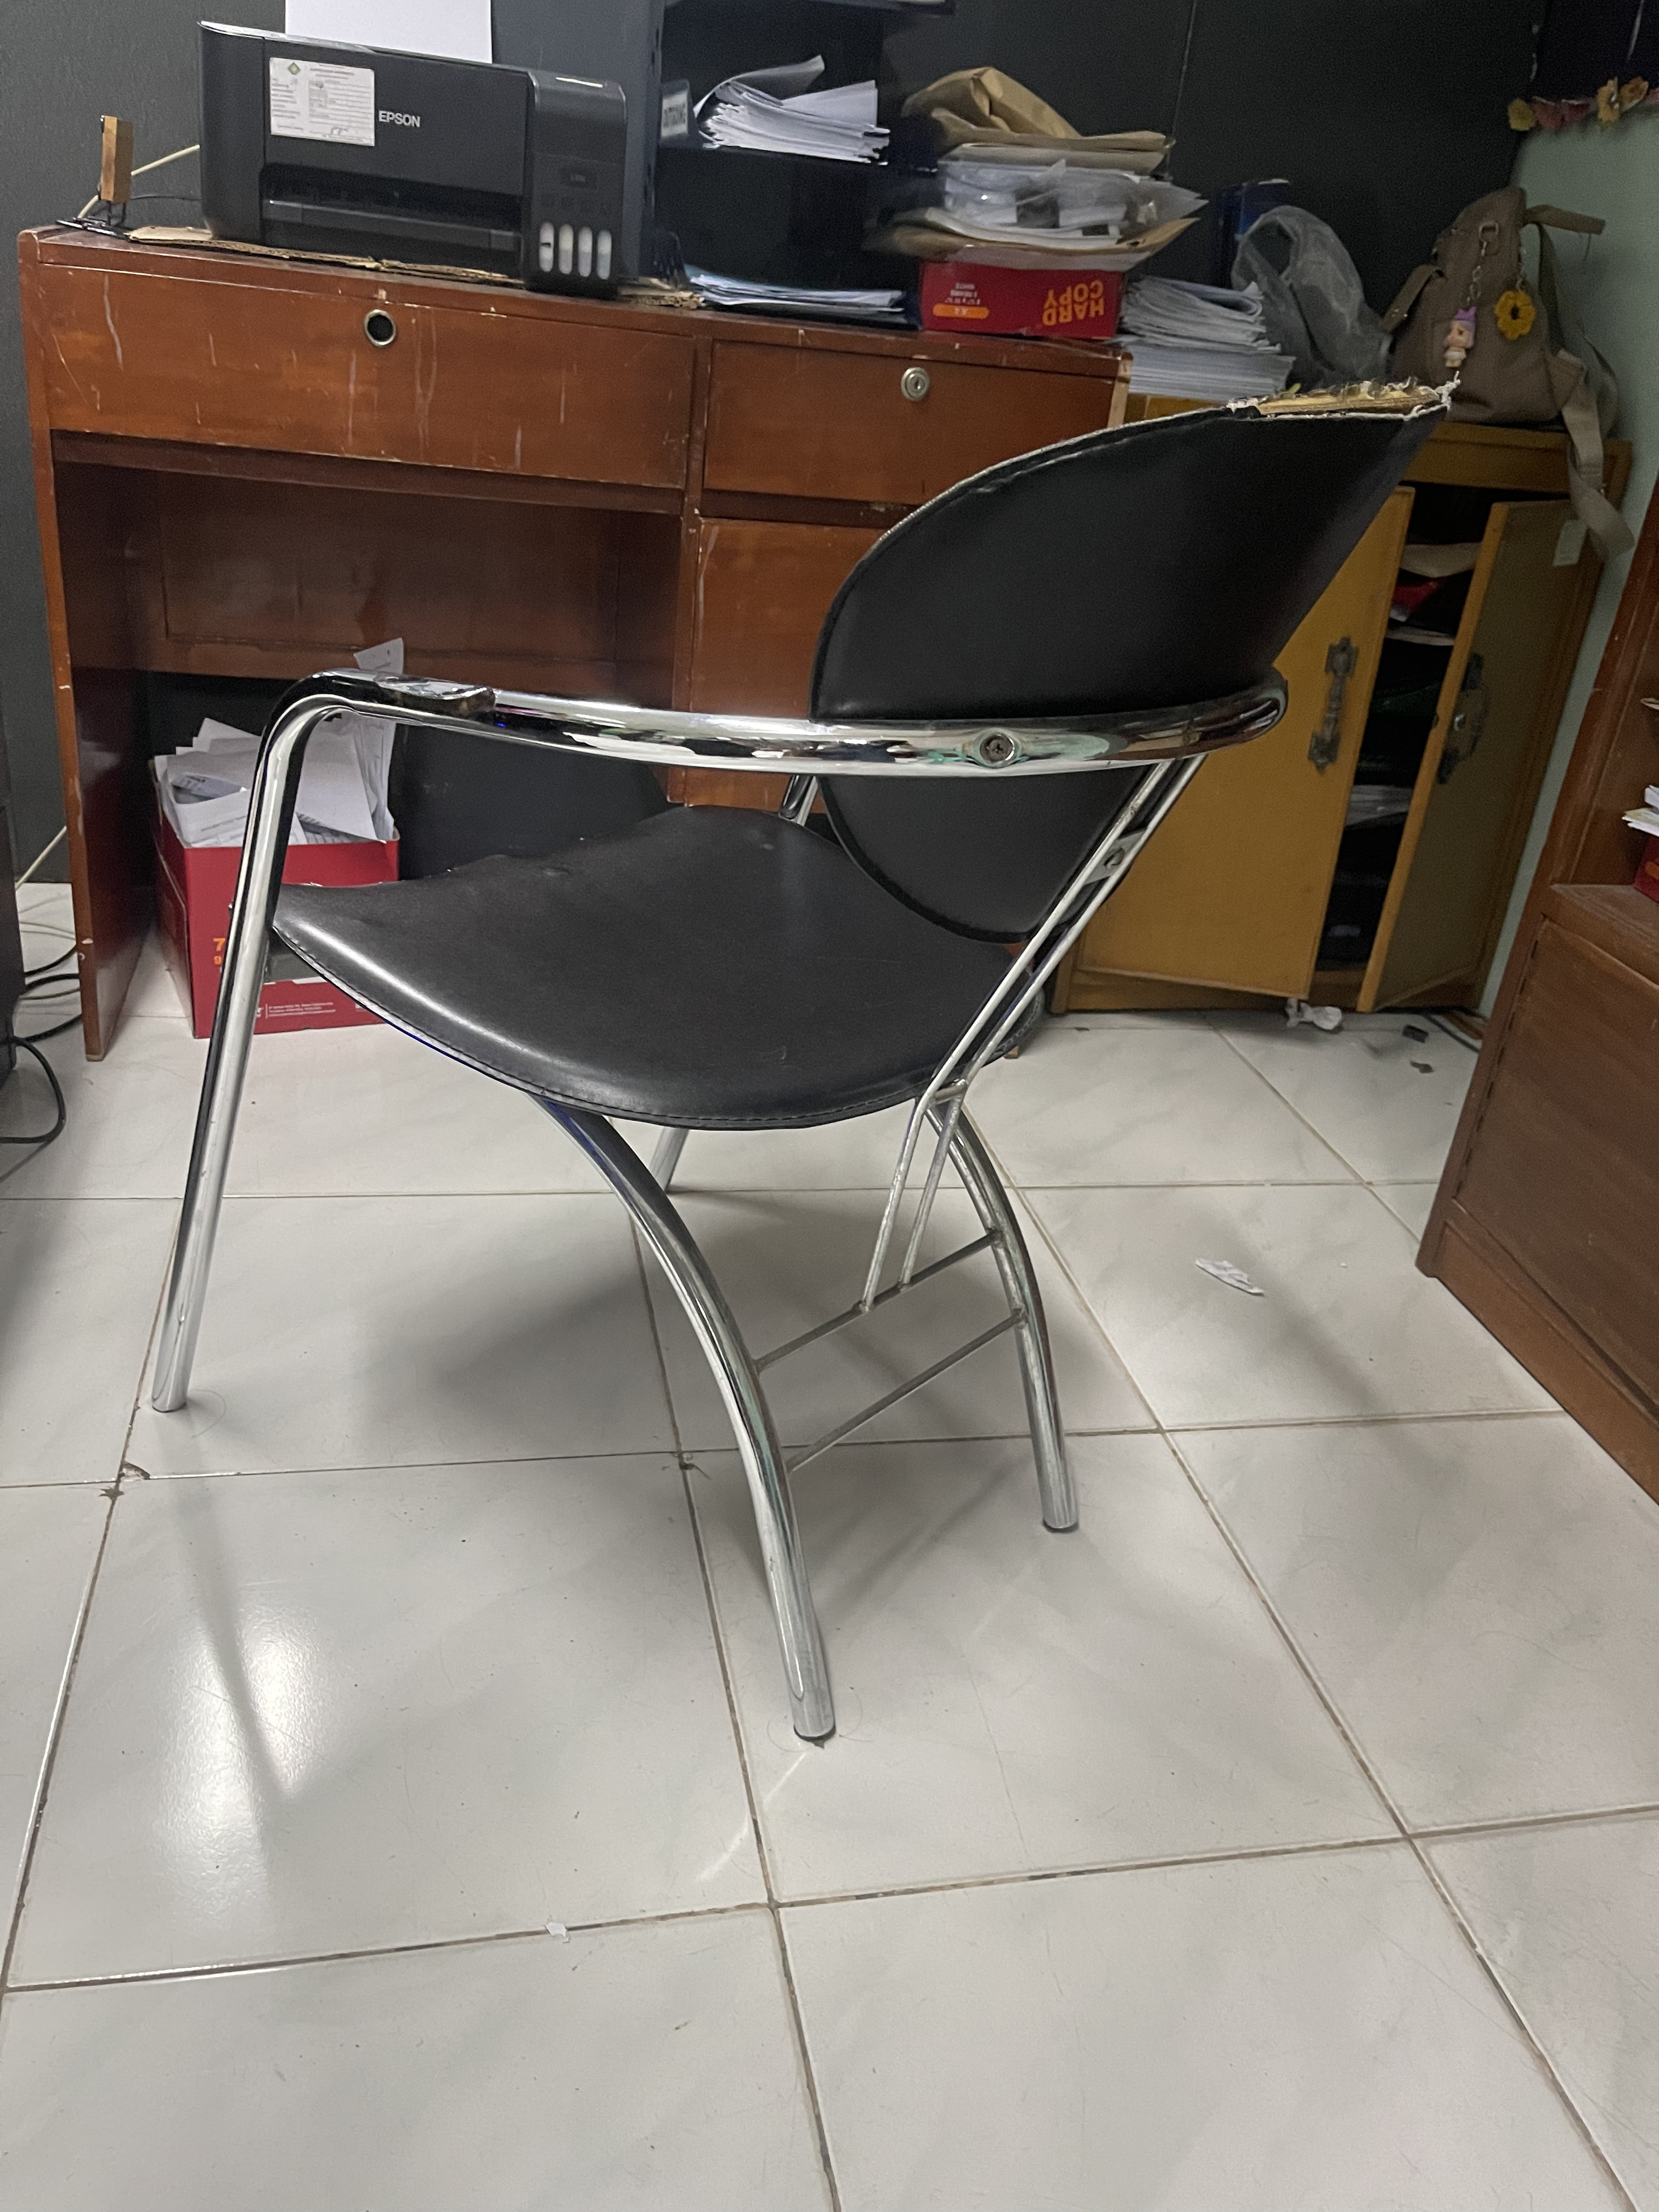chair1: (146, 374, 1471, 1759)
